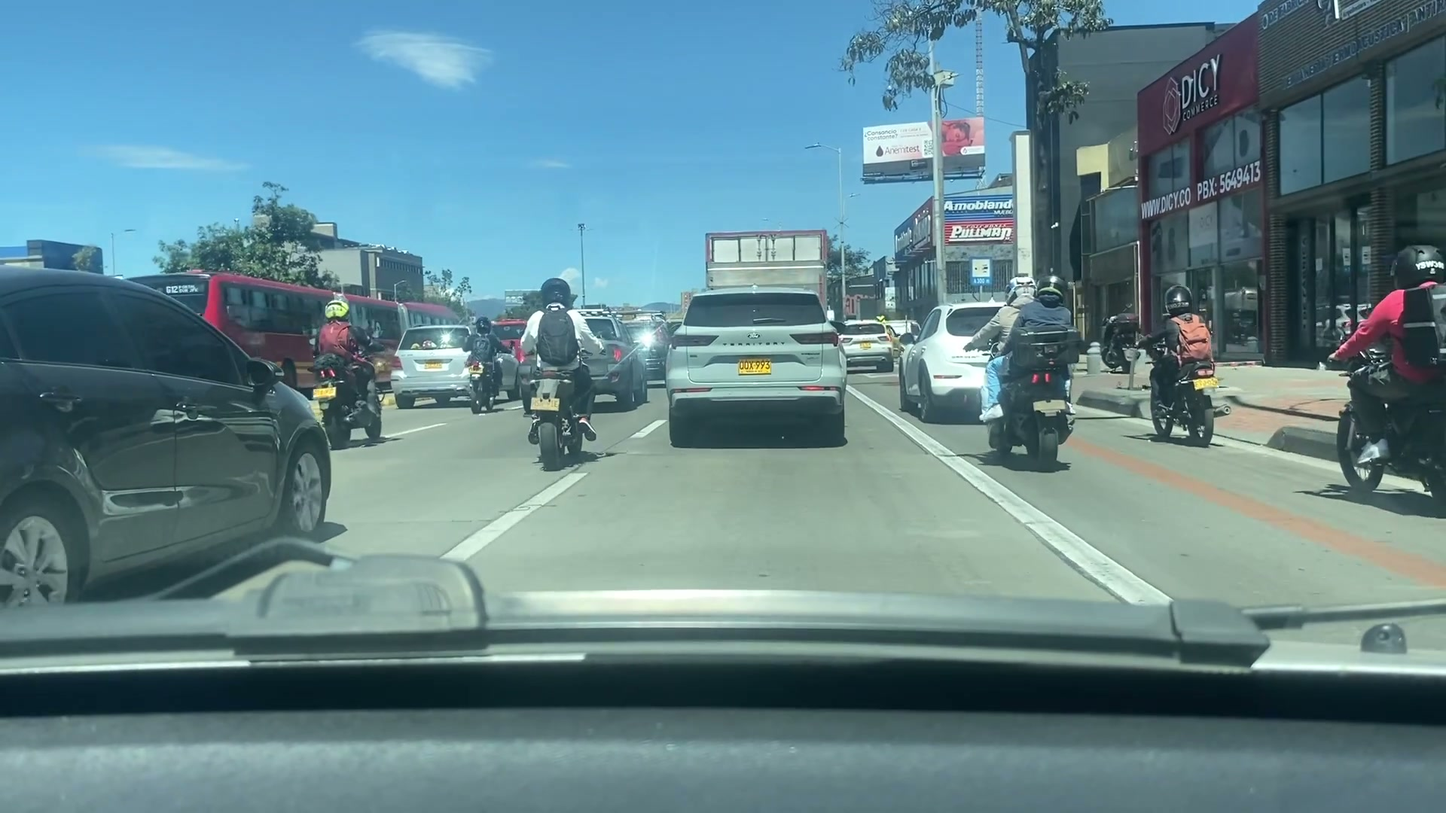car: (0, 270, 332, 598), (664, 287, 848, 444), (891, 296, 1033, 415), (521, 306, 651, 405), (389, 323, 521, 401), (835, 318, 898, 376), (625, 320, 669, 374)
motorcycle: (1316, 328, 1446, 503), (519, 359, 606, 474), (981, 375, 1076, 468), (1142, 356, 1232, 446), (308, 355, 385, 444), (457, 357, 500, 414)
person: (1336, 243, 1446, 469), (524, 276, 597, 441), (1001, 271, 1079, 422), (313, 302, 394, 423), (1142, 281, 1213, 415), (974, 276, 1038, 413), (462, 311, 505, 399)
truck: (703, 231, 826, 322)
